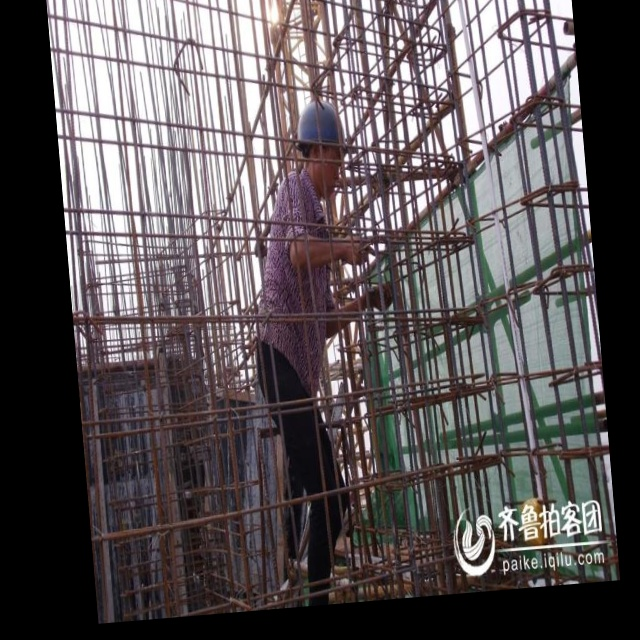Con_Casco: (295, 99, 350, 192)
